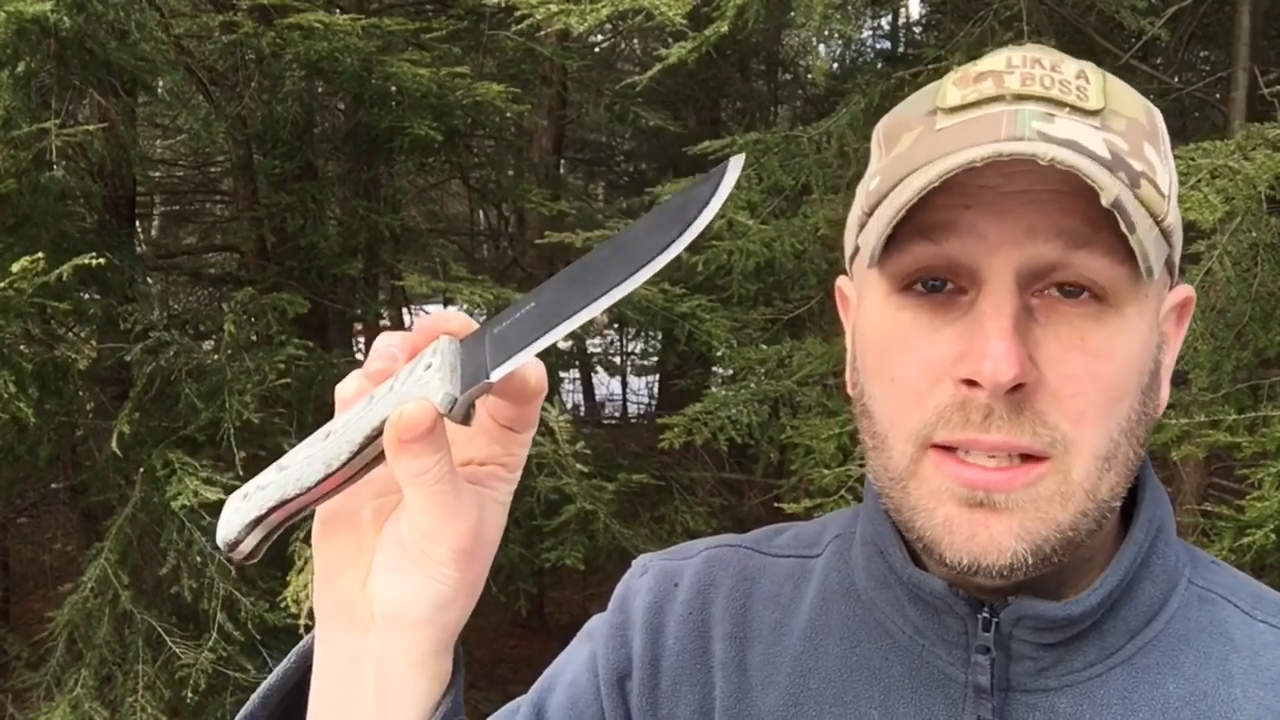knife: (358, 141, 759, 478)
